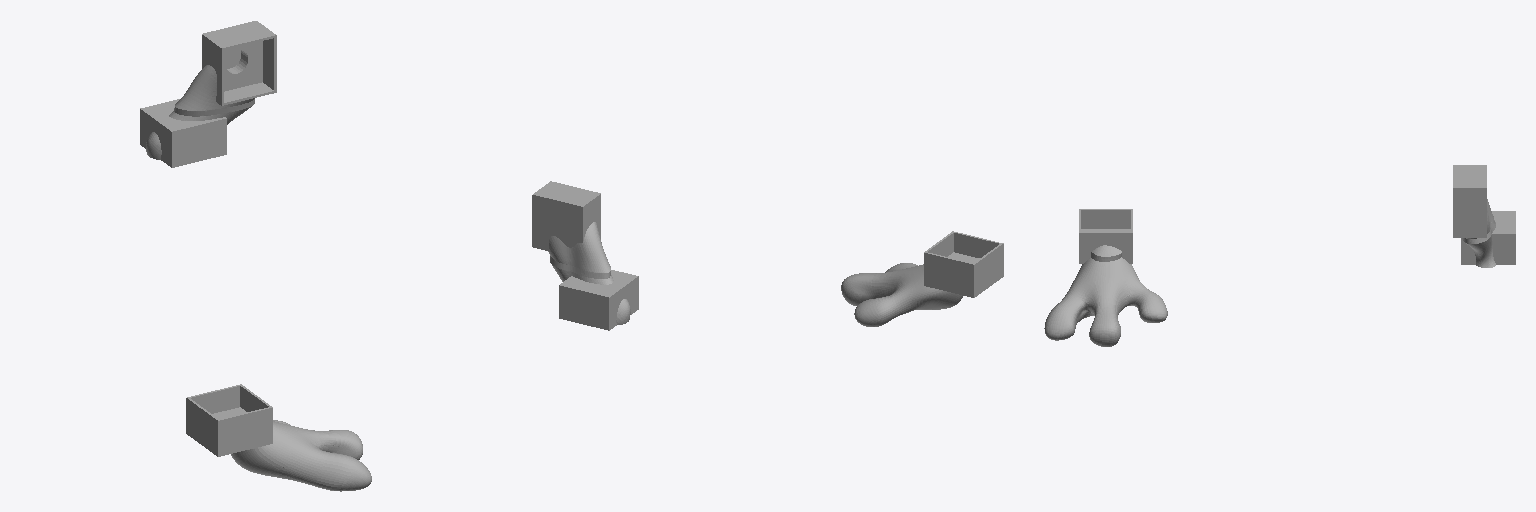
The robot description file, URDF, robot "FrogBot3_top-FrogBot3-x-1_bottom-FrogBot3-x-1":
<?xml version="1.0" ?>
<robot name="FrogBot3_top-FrogBot3-x-1_bottom-FrogBot3-x-1">

<material name="pla_5_percent_infill">
  <color rgba="0.700 0.700 0.700 1.000"/>
</material>

<link name="base_link">
  <inertial>
    <origin xyz="0 0 0" rpy="0 0 0"/>
    <mass value="1.5419899792307459"/>
    <inertia ixx="0.0054836076661745285" iyy="0.013703915460827342" izz="0.013742849788882953" ixy="5.961000823851627e-05" iyz="4.9944941207841843e-05" ixz="-0.0023657822822012154"/>
  </inertial>
  <visual>
    <origin xyz="0 0 0" rpy="0 0 0"/>
    <geometry>
      <mesh filename="simple_meshes/base_link.stl" scale="0.001 0.001 0.001"/>
    </geometry>
    <material name="pla_5_percent_infill"/>
  </visual>
  <collision>
    <origin xyz="0 0 0" rpy="0 0 0"/>
    <geometry>
      <mesh filename="simple_meshes/base_link.stl" scale="0.001 0.001 0.001"/>
    </geometry>
  </collision>
</link>

<link name="body_1_0_1">
  <inertial>
    <origin xyz="-0.065859 -0.113451 -0.001976" rpy="0 0 0"/>
    <mass value="0.03741674010202097"/>
    <inertia ixx="2.6069707017078113e-05" iyy="4.059220278075239e-05" izz="2.481412179690303e-05" ixy="3.034660637901384e-06" iyz="3.089286146108419e-06" ixz="-1.2106340481407895e-05"/>
  </inertial>
  <visual>
    <origin xyz="-0.065859 -0.113451 -0.001976" rpy="0 0 0"/>
    <geometry>
      <mesh filename="simple_meshes/body_1_0_1.stl" scale="0.001 0.001 0.001"/>
    </geometry>
    <material name="pla_5_percent_infill"/>
  </visual>
  <collision>
    <origin xyz="-0.065859 -0.113451 -0.001976" rpy="0 0 0"/>
    <geometry>
      <mesh filename="simple_meshes/body_1_0_1.stl" scale="0.001 0.001 0.001"/>
    </geometry>
  </collision>
</link>

<link name="body_1_1_1">
  <inertial>
    <origin xyz="0.083929 -0.113451 -0.010696" rpy="0 0 0"/>
    <mass value="0.05596785139093219"/>
    <inertia ixx="3.8950271948593905e-05" iyy="7.246335240166562e-05" izz="4.984256470758801e-05" ixy="6.240169770640493e-06" iyz="8.038428714410523e-06" ixz="-2.1240072640874686e-05"/>
  </inertial>
  <visual>
    <origin xyz="0.083929 -0.113451 -0.010696" rpy="0 0 0"/>
    <geometry>
      <mesh filename="simple_meshes/body_1_1_1.stl" scale="0.001 0.001 0.001"/>
    </geometry>
    <material name="pla_5_percent_infill"/>
  </visual>
  <collision>
    <origin xyz="0.083929 -0.113451 -0.010696" rpy="0 0 0"/>
    <geometry>
      <mesh filename="simple_meshes/body_1_1_1.stl" scale="0.001 0.001 0.001"/>
    </geometry>
  </collision>
</link>

<link name="body_1_2_1">
  <inertial>
    <origin xyz="-0.060736 0.113451 -0.005366" rpy="0 0 0"/>
    <mass value="0.03942710446627524"/>
    <inertia ixx="2.9172615536055555e-05" iyy="4.292413068544017e-05" izz="2.500179469826138e-05" ixy="-3.3746104126488653e-06" iyz="-4.505854574327371e-06" ixz="-1.2859303295323345e-05"/>
  </inertial>
  <visual>
    <origin xyz="-0.060736 0.113451 -0.005366" rpy="0 0 0"/>
    <geometry>
      <mesh filename="simple_meshes/body_1_2_1.stl" scale="0.001 0.001 0.001"/>
    </geometry>
    <material name="pla_5_percent_infill"/>
  </visual>
  <collision>
    <origin xyz="-0.060736 0.113451 -0.005366" rpy="0 0 0"/>
    <geometry>
      <mesh filename="simple_meshes/body_1_2_1.stl" scale="0.001 0.001 0.001"/>
    </geometry>
  </collision>
</link>

<link name="body_1_3_1">
  <inertial>
    <origin xyz="0.093982 0.113451 -0.005431" rpy="0 0 0"/>
    <mass value="0.055523619344930004"/>
    <inertia ixx="3.509387931941886e-05" iyy="6.109889868985115e-05" izz="4.291419328865745e-05" ixy="-4.41340806530484e-06" iyz="-6.895823467725602e-06" ixz="-1.5431870046110266e-05"/>
  </inertial>
  <visual>
    <origin xyz="0.093982 0.113451 -0.005431" rpy="0 0 0"/>
    <geometry>
      <mesh filename="simple_meshes/body_1_3_1.stl" scale="0.001 0.001 0.001"/>
    </geometry>
    <material name="pla_5_percent_infill"/>
  </visual>
  <collision>
    <origin xyz="0.093982 0.113451 -0.005431" rpy="0 0 0"/>
    <geometry>
      <mesh filename="simple_meshes/body_1_3_1.stl" scale="0.001 0.001 0.001"/>
    </geometry>
  </collision>
</link>

<link name="body_2_0_1">
  <inertial>
    <origin xyz="-0.026166 -0.164707 0.087895" rpy="0 0 0"/>
    <mass value="0.08212549482726689"/>
    <inertia ixx="6.259533117840277e-05" iyy="0.0001801046800443979" izz="0.00018989442677949447" ixy="3.5552050180814258e-06" iyz="-2.560244609915198e-06" ixz="5.428791878665448e-05"/>
  </inertial>
  <visual>
    <origin xyz="-0.026166 -0.164707 0.087895" rpy="0 0 0"/>
    <geometry>
      <mesh filename="simple_meshes/body_2_0_1.stl" scale="0.001 0.001 0.001"/>
    </geometry>
    <material name="pla_5_percent_infill"/>
  </visual>
  <collision>
    <origin xyz="-0.026166 -0.164707 0.087895" rpy="0 0 0"/>
    <geometry>
      <mesh filename="simple_meshes/body_2_0_1.stl" scale="0.001 0.001 0.001"/>
    </geometry>
  </collision>
</link>

<link name="body_2_1_1">
  <inertial>
    <origin xyz="0.127747 -0.174737 0.087895" rpy="0 0 0"/>
    <mass value="0.07037281159590891"/>
    <inertia ixx="4.372583407962708e-05" iyy="8.766579306740104e-05" izz="9.642875067244908e-05" ixy="-9.132109387501247e-06" iyz="2.7452038159905216e-06" ixz="2.745540461864958e-05"/>
  </inertial>
  <visual>
    <origin xyz="0.127747 -0.174737 0.087895" rpy="0 0 0"/>
    <geometry>
      <mesh filename="simple_meshes/body_2_1_1.stl" scale="0.001 0.001 0.001"/>
    </geometry>
    <material name="pla_5_percent_infill"/>
  </visual>
  <collision>
    <origin xyz="0.127747 -0.174737 0.087895" rpy="0 0 0"/>
    <geometry>
      <mesh filename="simple_meshes/body_2_1_1.stl" scale="0.001 0.001 0.001"/>
    </geometry>
  </collision>
</link>

<link name="body_2_2_1">
  <inertial>
    <origin xyz="-0.021708 0.167525 0.087895" rpy="0 0 0"/>
    <mass value="0.08191712210960615"/>
    <inertia ixx="6.193853795956588e-05" iyy="0.00017608128087884777" izz="0.00018585761325109248" ixy="2.2348060419751826e-06" iyz="-1.4472402590478065e-06" ixz="5.3016551632472904e-05"/>
  </inertial>
  <visual>
    <origin xyz="-0.021708 0.167525 0.087895" rpy="0 0 0"/>
    <geometry>
      <mesh filename="simple_meshes/body_2_2_1.stl" scale="0.001 0.001 0.001"/>
    </geometry>
    <material name="pla_5_percent_infill"/>
  </visual>
  <collision>
    <origin xyz="-0.021708 0.167525 0.087895" rpy="0 0 0"/>
    <geometry>
      <mesh filename="simple_meshes/body_2_2_1.stl" scale="0.001 0.001 0.001"/>
    </geometry>
  </collision>
</link>

<link name="body_2_3_1">
  <inertial>
    <origin xyz="0.128136 0.172985 0.087895" rpy="0 0 0"/>
    <mass value="0.06799611941609633"/>
    <inertia ixx="4.606854062899927e-05" iyy="8.27902615349002e-05" izz="9.597673245598931e-05" ixy="7.357173669979809e-06" iyz="-3.941744825993777e-06" ixz="2.523451447294337e-05"/>
  </inertial>
  <visual>
    <origin xyz="0.128136 0.172985 0.087895" rpy="0 0 0"/>
    <geometry>
      <mesh filename="simple_meshes/body_2_3_1.stl" scale="0.001 0.001 0.001"/>
    </geometry>
    <material name="pla_5_percent_infill"/>
  </visual>
  <collision>
    <origin xyz="0.128136 0.172985 0.087895" rpy="0 0 0"/>
    <geometry>
      <mesh filename="simple_meshes/body_2_3_1.stl" scale="0.001 0.001 0.001"/>
    </geometry>
  </collision>
</link>

<joint name="joint_1_0" type="revolute">
  <origin xyz="0.065859 0.113451 0.001976" rpy="0 0 0"/>
  <parent link="base_link"/>
  <child link="body_1_0_1"/>
  <axis xyz="1.0 0.0 0.0"/>
  <limit upper="1.2" lower="-1.2" effort="3.8" velocity="5.4"/>
</joint>
<transmission name="joint_1_0_tran">
  <type>transmission_interface/SimpleTransmission</type>
  <joint name="joint_1_0">
    <hardwareInterface>PositionJointInterface</hardwareInterface>
  </joint>
  <actuator name="joint_1_0_actr">
    <hardwareInterface>PositionJointInterface</hardwareInterface>
    <mechanicalReduction>1</mechanicalReduction>
  </actuator>
</transmission>

<joint name="joint_1_1" type="revolute">
  <origin xyz="-0.083929 0.113451 0.010696" rpy="0 0 0"/>
  <parent link="base_link"/>
  <child link="body_1_1_1"/>
  <axis xyz="1.0 0.0 0.0"/>
  <limit upper="1.2" lower="-1.2" effort="3.8" velocity="5.4"/>
</joint>
<transmission name="joint_1_1_tran">
  <type>transmission_interface/SimpleTransmission</type>
  <joint name="joint_1_1">
    <hardwareInterface>PositionJointInterface</hardwareInterface>
  </joint>
  <actuator name="joint_1_1_actr">
    <hardwareInterface>PositionJointInterface</hardwareInterface>
    <mechanicalReduction>1</mechanicalReduction>
  </actuator>
</transmission>

<joint name="joint_1_2" type="revolute">
  <origin xyz="0.060736 -0.113451 0.005366" rpy="0 0 0"/>
  <parent link="base_link"/>
  <child link="body_1_2_1"/>
  <axis xyz="1.0 0.0 0.0"/>
  <limit upper="1.2" lower="-1.2" effort="3.8" velocity="5.4"/>
</joint>
<transmission name="joint_1_2_tran">
  <type>transmission_interface/SimpleTransmission</type>
  <joint name="joint_1_2">
    <hardwareInterface>PositionJointInterface</hardwareInterface>
  </joint>
  <actuator name="joint_1_2_actr">
    <hardwareInterface>PositionJointInterface</hardwareInterface>
    <mechanicalReduction>1</mechanicalReduction>
  </actuator>
</transmission>

<joint name="joint_1_3" type="revolute">
  <origin xyz="-0.093982 -0.113451 0.005431" rpy="0 0 0"/>
  <parent link="base_link"/>
  <child link="body_1_3_1"/>
  <axis xyz="1.0 0.0 0.0"/>
  <limit upper="1.2" lower="-1.2" effort="3.8" velocity="5.4"/>
</joint>
<transmission name="joint_1_3_tran">
  <type>transmission_interface/SimpleTransmission</type>
  <joint name="joint_1_3">
    <hardwareInterface>PositionJointInterface</hardwareInterface>
  </joint>
  <actuator name="joint_1_3_actr">
    <hardwareInterface>PositionJointInterface</hardwareInterface>
    <mechanicalReduction>1</mechanicalReduction>
  </actuator>
</transmission>

<joint name="joint_2_0" type="revolute">
  <origin xyz="-0.039693 0.051256 -0.089871" rpy="0 0 0"/>
  <parent link="body_1_0_1"/>
  <child link="body_2_0_1"/>
  <axis xyz="1.0 0.0 0.0"/>
  <limit upper="1.2" lower="-1.2" effort="3.8" velocity="5.4"/>
</joint>
<transmission name="joint_2_0_tran">
  <type>transmission_interface/SimpleTransmission</type>
  <joint name="joint_2_0">
    <hardwareInterface>PositionJointInterface</hardwareInterface>
  </joint>
  <actuator name="joint_2_0_actr">
    <hardwareInterface>PositionJointInterface</hardwareInterface>
    <mechanicalReduction>1</mechanicalReduction>
  </actuator>
</transmission>

<joint name="joint_2_1" type="revolute">
  <origin xyz="-0.043818 0.061286 -0.098591" rpy="0 0 0"/>
  <parent link="body_1_1_1"/>
  <child link="body_2_1_1"/>
  <axis xyz="1.0 0.0 0.0"/>
  <limit upper="1.2" lower="-1.2" effort="3.8" velocity="5.4"/>
</joint>
<transmission name="joint_2_1_tran">
  <type>transmission_interface/SimpleTransmission</type>
  <joint name="joint_2_1">
    <hardwareInterface>PositionJointInterface</hardwareInterface>
  </joint>
  <actuator name="joint_2_1_actr">
    <hardwareInterface>PositionJointInterface</hardwareInterface>
    <mechanicalReduction>1</mechanicalReduction>
  </actuator>
</transmission>

<joint name="joint_2_2" type="revolute">
  <origin xyz="-0.039028 -0.054074 -0.093261" rpy="0 0 0"/>
  <parent link="body_1_2_1"/>
  <child link="body_2_2_1"/>
  <axis xyz="1.0 0.0 0.0"/>
  <limit upper="1.2" lower="-1.2" effort="3.8" velocity="5.4"/>
</joint>
<transmission name="joint_2_2_tran">
  <type>transmission_interface/SimpleTransmission</type>
  <joint name="joint_2_2">
    <hardwareInterface>PositionJointInterface</hardwareInterface>
  </joint>
  <actuator name="joint_2_2_actr">
    <hardwareInterface>PositionJointInterface</hardwareInterface>
    <mechanicalReduction>1</mechanicalReduction>
  </actuator>
</transmission>

<joint name="joint_2_3" type="revolute">
  <origin xyz="-0.034154 -0.059534 -0.093326" rpy="0 0 0"/>
  <parent link="body_1_3_1"/>
  <child link="body_2_3_1"/>
  <axis xyz="1.0 0.0 0.0"/>
  <limit upper="1.2" lower="-1.2" effort="3.8" velocity="5.4"/>
</joint>
<transmission name="joint_2_3_tran">
  <type>transmission_interface/SimpleTransmission</type>
  <joint name="joint_2_3">
    <hardwareInterface>PositionJointInterface</hardwareInterface>
  </joint>
  <actuator name="joint_2_3_actr">
    <hardwareInterface>PositionJointInterface</hardwareInterface>
    <mechanicalReduction>1</mechanicalReduction>
  </actuator>
</transmission>

</robot>

--- What the picture shows (computed from the rendered views, not written in the file) ---
3 views of the same robot in one strip: view 1: azimuth 30°, elevation 25°; view 2: azimuth 150°, elevation 25°; view 3: azimuth 270°, elevation 25° (orthographic).
Robot: FrogBot3_top-FrogBot3-x-1_bottom-FrogBot3-x-1 — 9 links, 8 joints (8 revolute); root link base_link; default pose: every joint at zero.
Visible links, largest first — view 1: body_1_0_1, body_2_3_1; view 2: body_1_0_1, body_2_3_1; view 3: body_2_3_1, body_1_0_1.
Boxes of the visible links, box(x1,y1,x2,y2) form: body_1_0_1: box(140, 21, 276, 167); body_2_3_1: box(186, 384, 371, 491); body_1_0_1: box(532, 181, 638, 330); body_2_3_1: box(841, 231, 1003, 326); body_2_3_1: box(1044, 209, 1167, 346); body_1_0_1: box(1453, 165, 1515, 267).
Size in the robot's own frame: 0.2429 by 0.4163 by 0.2096 metres.
Meshes: 9 distinct files referenced, 2 mesh visuals loaded (2 binary STL); not drawn: 7 (reference not matched to a file when rendering).